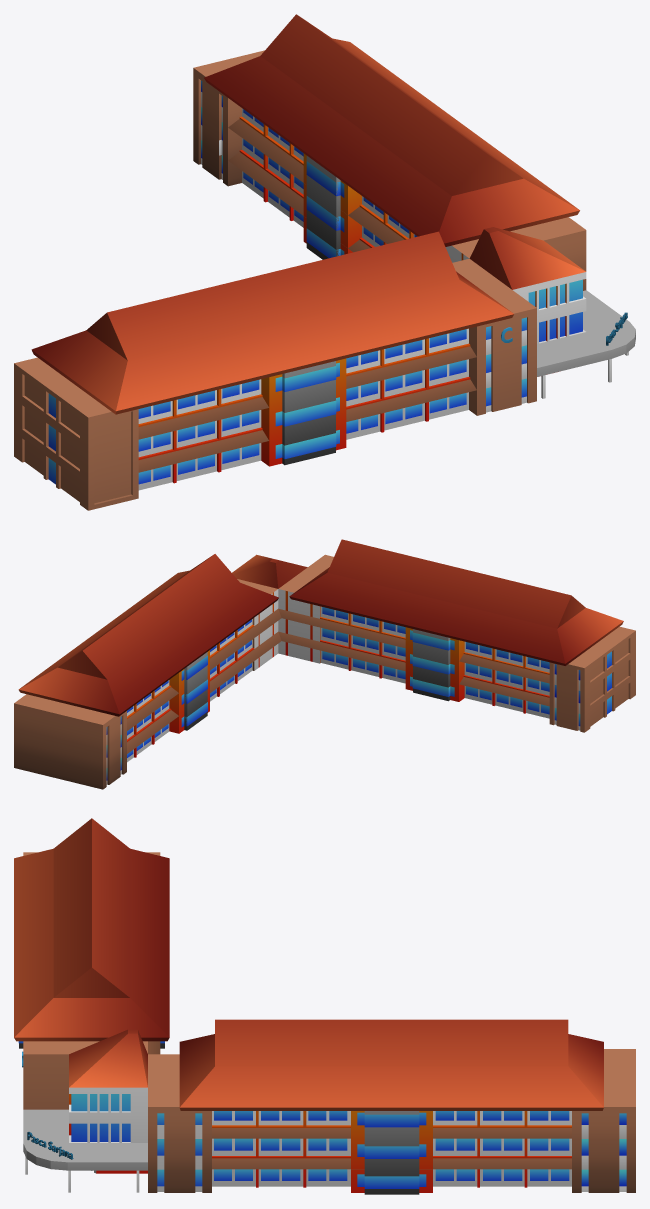
Rendered from Pasca Sarjana.fbx.
3 renders of one model, top to bottom at view 1: azimuth 30°, elevation 25°; view 2: azimuth 150°, elevation 25°; view 3: azimuth 270°, elevation 25°, orthographic. The views are drawn at different scales.
Visible parts, largest first — view 1: Pasca Sarjana; view 2: Pasca Sarjana; view 3: Pasca Sarjana.
Boxes of the visible parts, left/top/right/bottom form: Pasca Sarjana: left=14, top=14, right=635, bottom=510; Pasca Sarjana: left=14, top=539, right=635, bottom=789; Pasca Sarjana: left=14, top=818, right=635, bottom=1194.
Size of the model in its own units: 6731 by 1757 by 6818.
1 material, 1 textured.
